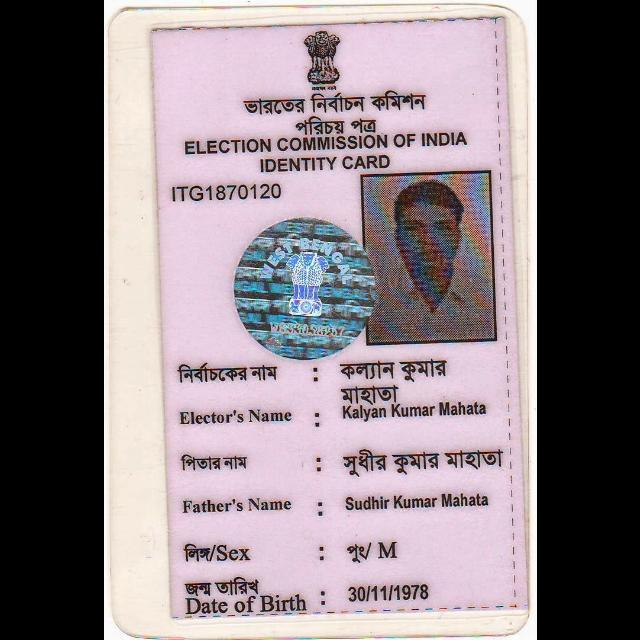voter_id: (146, 10, 532, 628)
